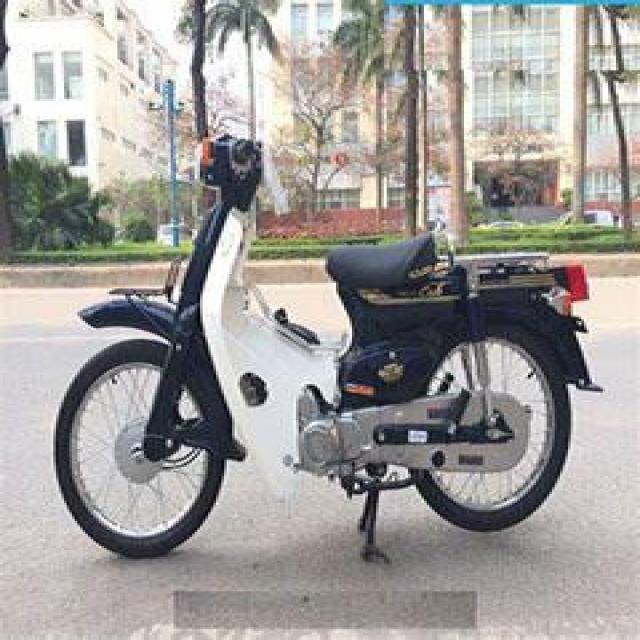motorcycle: (53, 105, 616, 584)
